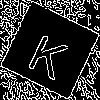K: (25, 25, 75, 81)
